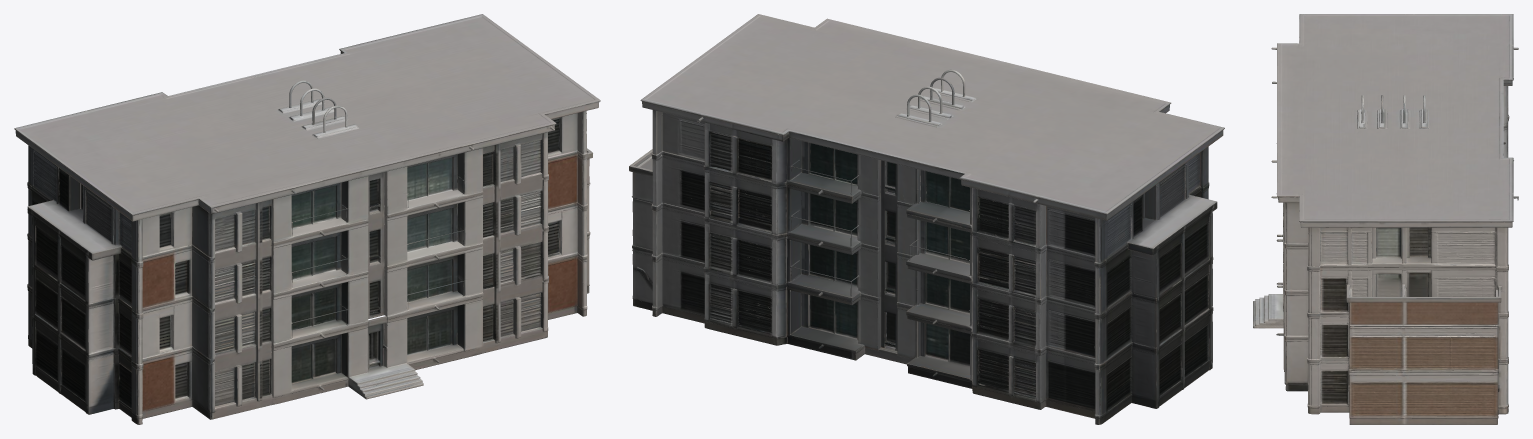
Rendered from logement-batiment-v2.glb.
3 renders of one model, left to right at view 1: azimuth 30°, elevation 25°; view 2: azimuth 150°, elevation 25°; view 3: azimuth 270°, elevation 25°, orthographic. The views are drawn at different scales.
Visible parts, largest first — view 1: mesh_uv.obj; view 2: mesh_uv.obj; view 3: mesh_uv.obj.
Part boxes in pixels (x1,y1,x2,y2): mesh_uv.obj: (14,14,600,424); mesh_uv.obj: (629,14,1224,424); mesh_uv.obj: (1253,14,1518,424).
Size of the model in its own units: 1.8 by 0.8282 by 0.9085.
Materials: 1 (1 with a texture image).
